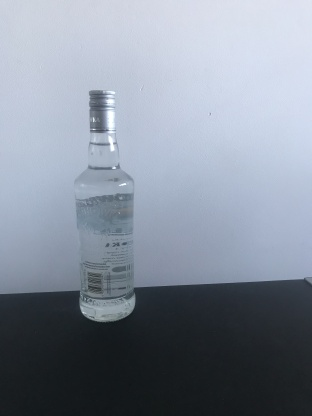nakretka: (86, 87, 117, 134)
